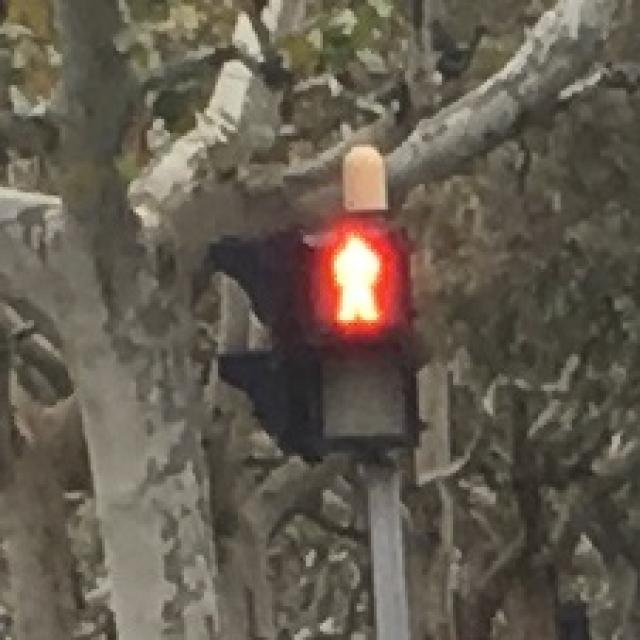red_light: (309, 224, 402, 331)
